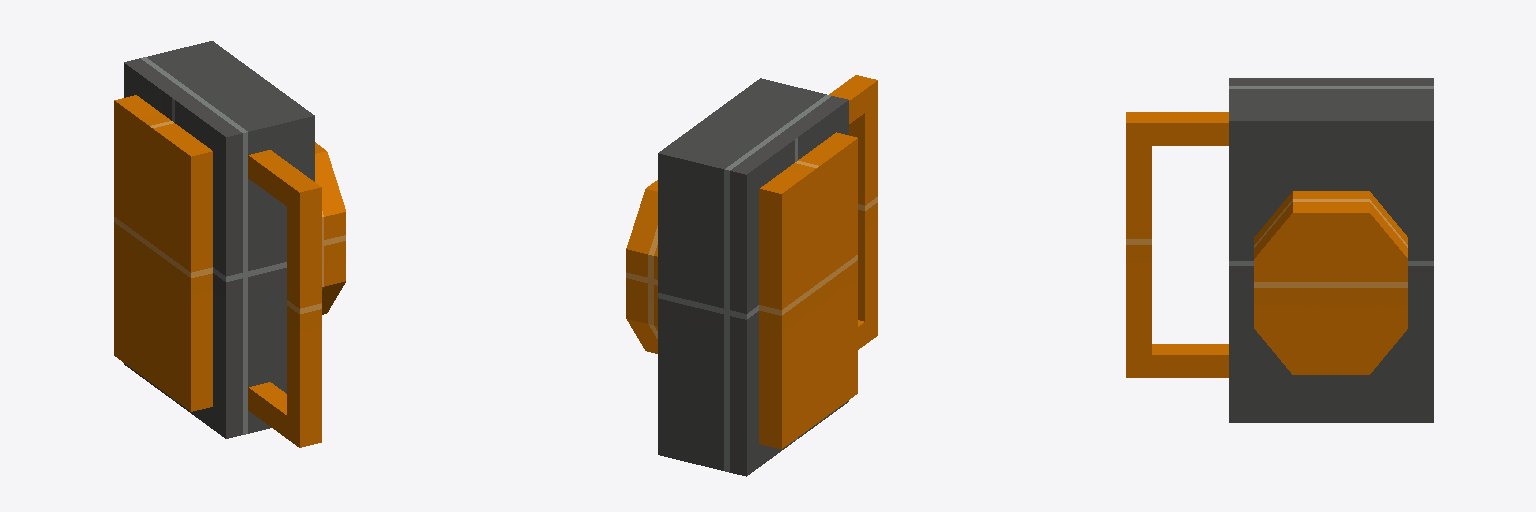
3 views of the same model, side by side, from view 1: azimuth 30°, elevation 25°; view 2: azimuth 150°, elevation 25°; view 3: azimuth 270°, elevation 25° (orthographic).
Visible parts, largest first — view 1: 158, 213, 130, 6, 128, 129; view 2: 158, 213, 130, 6, 128; view 3: 158, 6, 130, 128, 129.
Boxes of the visible parts, <box> form: 158: <box>124,41,314,438</box>; 213: <box>114,95,212,411</box>; 130: <box>287,178,321,447</box>; 6: <box>315,142,345,314</box>; 128: <box>248,150,307,205</box>; 129: <box>248,382,286,438</box>; 158: <box>658,78,848,476</box>; 213: <box>759,132,857,449</box>; 130: <box>844,75,877,344</box>; 6: <box>626,180,657,353</box>; 128: <box>829,84,864,123</box>; 158: <box>1229,78,1433,422</box>; 6: <box>1254,191,1407,374</box>; 130: <box>1126,112,1151,377</box>; 128: <box>1152,112,1228,145</box>; 129: <box>1152,344,1228,377</box>.
Size of the model in its own units: 7 by 13 by 12.
Materials: 2 (2 with a texture image).